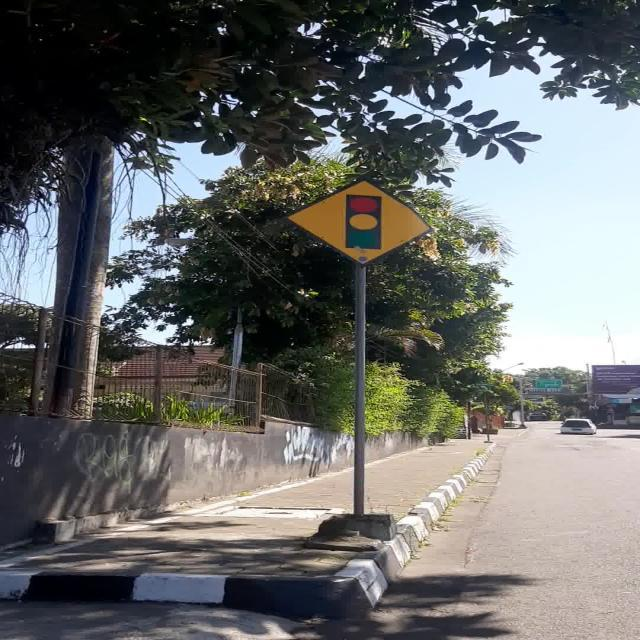Lampu Lalu Lintas: (285, 178, 433, 266)
